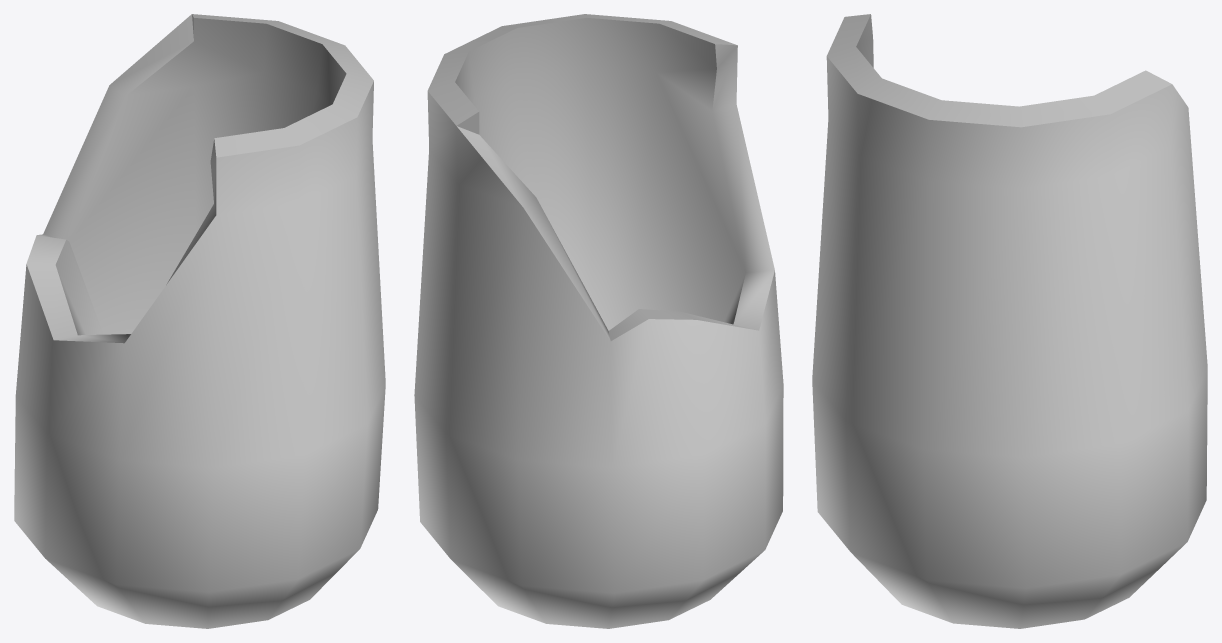
File: PT_Pot_03.fbx
The picture shows the model from 3 angles, left to right: view 1: azimuth 30°, elevation 25°; view 2: azimuth 150°, elevation 25°; view 3: azimuth 270°, elevation 25°; orthographic projection. The views are drawn at different scales.
Parts seen in each view (by area): view 1: PT_Pot_03; view 2: PT_Pot_03; view 3: PT_Pot_03.
Boxes of the visible parts, x1,y1,x2,y2 form: PT_Pot_03: (14,14,385,628); PT_Pot_03: (414,14,783,628); PT_Pot_03: (812,14,1207,628).
Size of the model in its own units: 9.21 by 14.25 by 9.18.
1 material, 1 textured.
